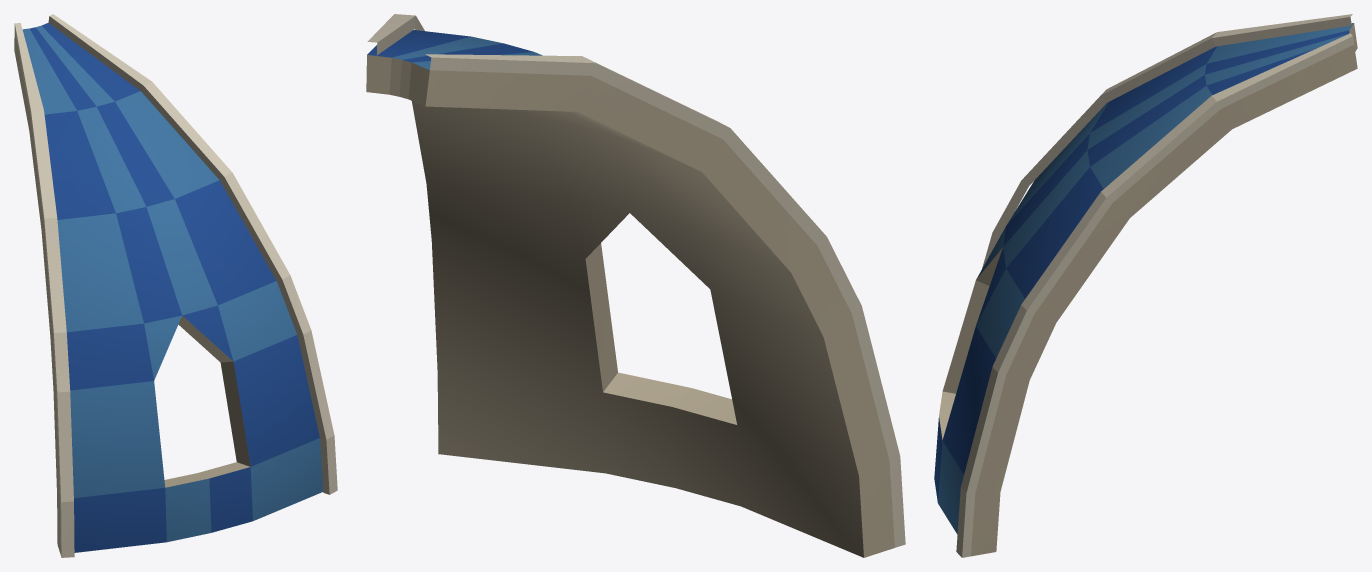
The model's file is dome.panel_8_window.blue.glb.
The picture shows the model from 3 angles, left to right: view 1: azimuth 30°, elevation 25°; view 2: azimuth 150°, elevation 25°; view 3: azimuth 270°, elevation 25°; orthographic projection. The views are drawn at different scales.
Parts seen in each view (by area): view 1: dome_panel_8_window_blue; view 2: dome_panel_8_window_blue; view 3: dome_panel_8_window_blue.
Part boxes in pixels (bbox=[...]): dome_panel_8_window_blue: bbox=[14, 14, 337, 557]; dome_panel_8_window_blue: bbox=[366, 14, 905, 557]; dome_panel_8_window_blue: bbox=[934, 14, 1357, 557].
Size of what is drawn, in the model's own units: 2.73 by 3.63 by 3.08.
